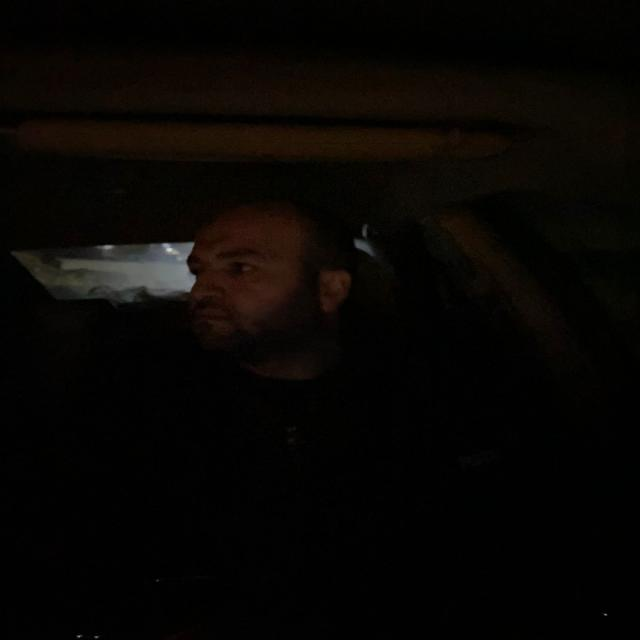LeftRight: (172, 186, 370, 374)
